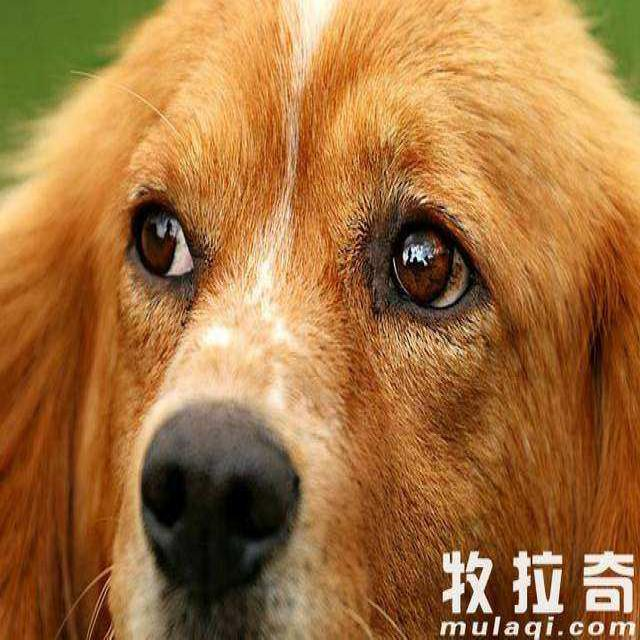eye: (381, 206, 478, 321), (125, 196, 202, 292)
